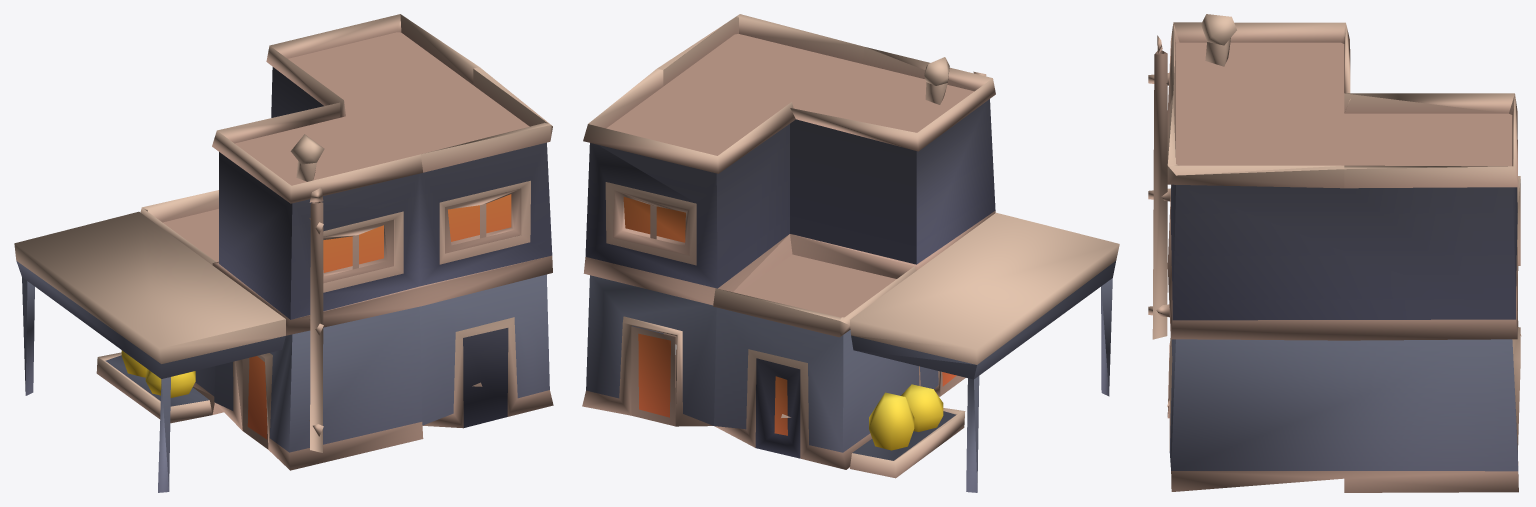
File: casa_q.fbx
The picture shows the model from 3 angles, left to right: view 1: azimuth 30°, elevation 25°; view 2: azimuth 150°, elevation 25°; view 3: azimuth 270°, elevation 25°; orthographic projection. The views are drawn at different scales.
Visible parts, largest first — view 1: casa_q; view 2: casa_q; view 3: casa_q.
Boxes of the visible parts, x1,y1,x2,y2 form: casa_q: (14, 14, 553, 492); casa_q: (582, 14, 1119, 492); casa_q: (1148, 14, 1521, 492).
Bounding box in the file's own units: 1.24 × 0.9215 × 0.8879.
